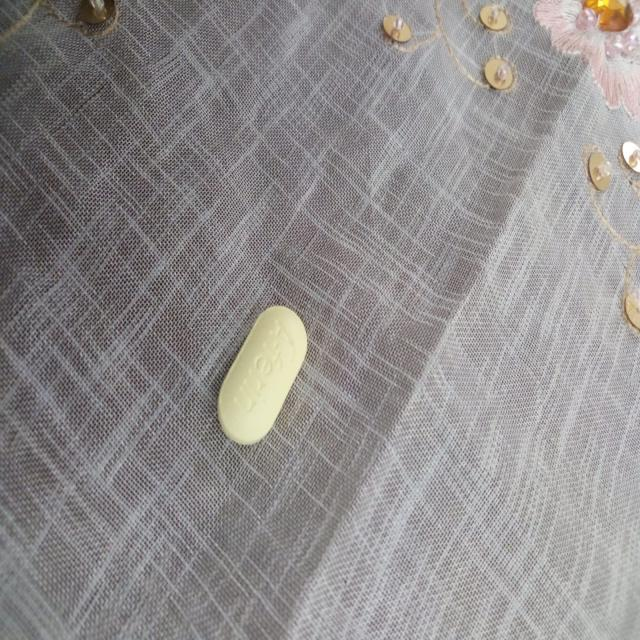pills: (202, 282, 318, 454)
